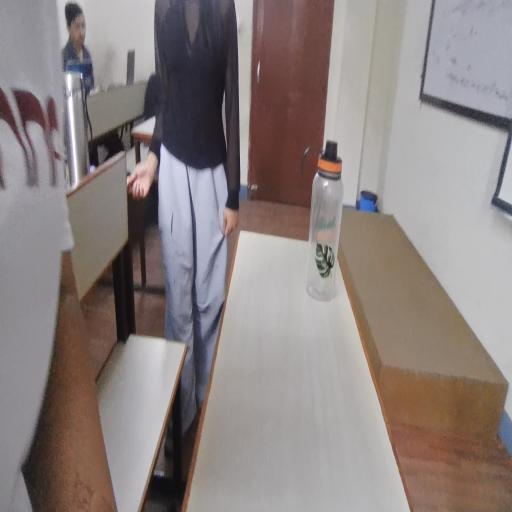Bottle: (305, 130, 349, 342)
